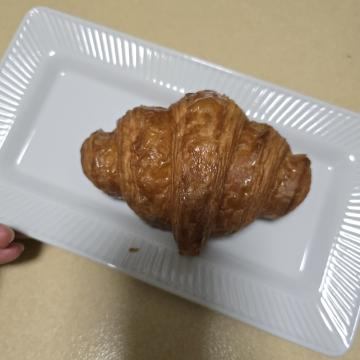croissant: (78, 34, 266, 296)
